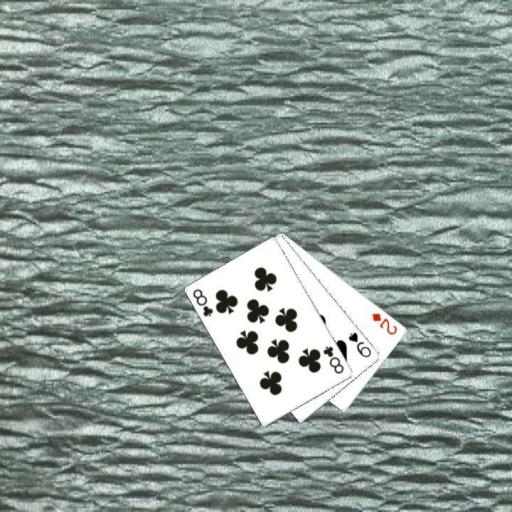card-corner: (320, 343, 346, 375), (190, 286, 215, 318), (369, 310, 399, 336), (346, 329, 372, 359)
